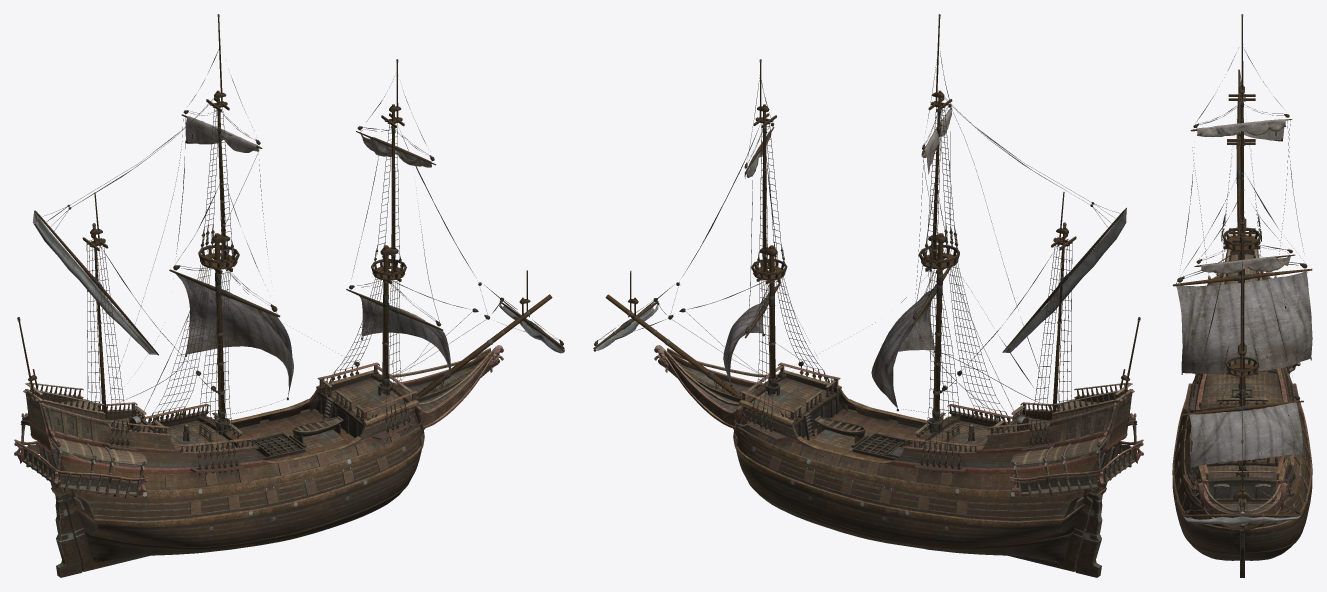
The model's file is dutch_ship_large_01.glb.
The picture shows the model from 3 angles, left to right: view 1: azimuth 30°, elevation 25°; view 2: azimuth 150°, elevation 25°; view 3: azimuth 270°, elevation 25°; orthographic projection. The views are drawn at different scales.
Parts seen in each view (by area): view 1: dutch_ship_large_01_hull, dutch_ship_large_01_rigging, dutch_ship_large_01_sails; view 2: dutch_ship_large_01_hull, dutch_ship_large_01_rigging, dutch_ship_large_01_sails; view 3: dutch_ship_large_01_sails, dutch_ship_large_01_hull, dutch_ship_large_01_rigging.
Boxes of the visible parts, x1,y1,x2,y2 form: dutch_ship_large_01_hull: (14,345,503,577); dutch_ship_large_01_rigging: (17,14,564,482); dutch_ship_large_01_sails: (176,116,450,396); dutch_ship_large_01_hull: (654,345,1143,577); dutch_ship_large_01_rigging: (593,14,1140,479); dutch_ship_large_01_sails: (723,109,951,408); dutch_ship_large_01_sails: (1177,119,1312,467); dutch_ship_large_01_hull: (1172,235,1312,577); dutch_ship_large_01_rigging: (1172,14,1312,524).
Size of the model in its own units: 34.25 by 32.08 by 8.39.
3 materials, 3 textured.
